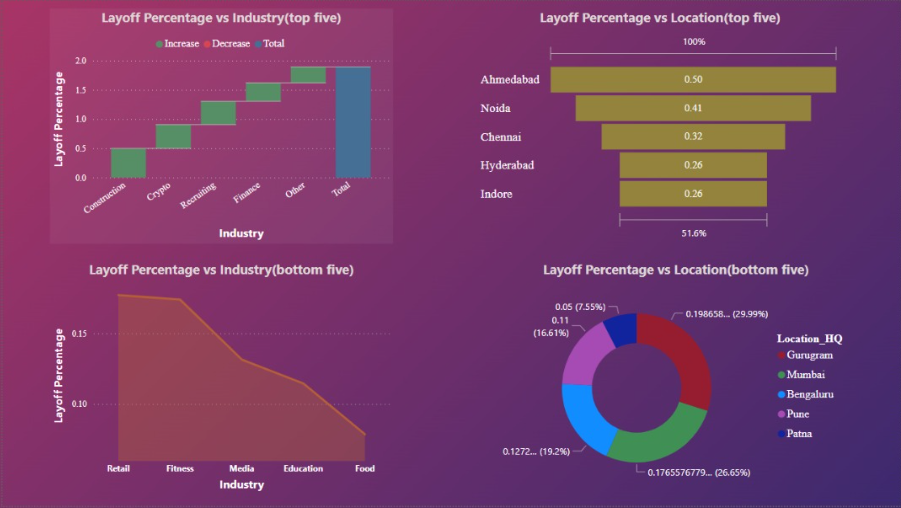

Layout of this report page (visuals, bound fields, positions):
{"tool":"powerbi","page":{"name":"India","canvas":[1280,720],"ordinal":2},"visuals":[{"type":"waterfallChart","title":"Layoff Percentage vs Industry(top five)","fields":{"Category":["India_industry_wise_layoff_percentage_top_five.Industry"],"Y":["Max(India_industry_wise_layoff_percentage_top_five.Layoff Percentage)"]},"box":[67.5,11.2,488.8,335],"z":0},{"type":"donutChart","title":"Layoff Percentage vs Location(bottom five)","fields":{"Y":["Max(India_location_wise_layoff_percentage_bottom_five.Layoff Percentage)"],"Category":["India_location_wise_layoff_percentage_bottom_five.Location_HQ"]},"box":[698.8,370,521.2,333.8],"z":1000},{"type":"areaChart","title":"Layoff Percentage vs Industry(bottom five)","fields":{"Category":["India_industry_wise_layoff_percentage_bottom_five.Industry"],"Y":["Max(India_industry_wise_layoff_percentage_bottom_five.Layoff Percentage)"]},"box":[67.5,370,488.8,333.8],"z":2000},{"type":"funnel","title":"Layoff Percentage vs Location(top five)","fields":{"Y":["Max(India_location_wise_layoff_percentage_top_five.Layoff Percentage)"],"Category":["India_location_wise_layoff_percentage_top_five.Location_HQ"]},"box":[676,11,521,335],"z":3000}]}

Visuals, with their boxes in screenshot pixels (x1, y1, x2, y2), scaled from the page's 1280x720 canvas onto the 901x508 screenshot:
"Layoff Percentage vs Industry(top five)" waterfallChart: left=48, top=8, right=392, bottom=244
"Layoff Percentage vs Location(bottom five)" donutChart: left=492, top=261, right=859, bottom=497
"Layoff Percentage vs Industry(bottom five)" areaChart: left=48, top=261, right=392, bottom=497
"Layoff Percentage vs Location(top five)" funnel: left=476, top=8, right=843, bottom=244
